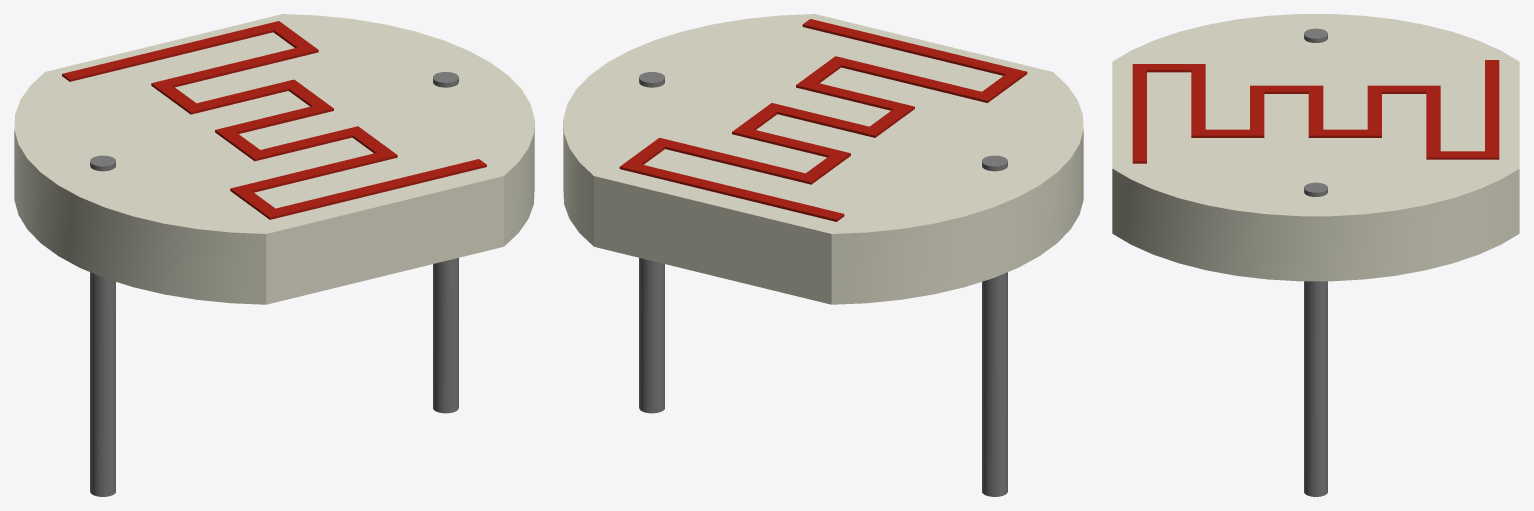
File: kc-r_ldr_10x8.5mm_p7.6mm_vertical.glb
3 views of the same model, side by side, from view 1: azimuth 30°, elevation 25°; view 2: azimuth 150°, elevation 25°; view 3: azimuth 270°, elevation 25° (orthographic). The views are drawn at different scales.
Parts seen in each view (by area): view 1: 0.75_0.75_0.6666666666666666_0, 0.4166666666666667_0_0_0, 0.25_0.25_0.25_0; view 2: 0.75_0.75_0.6666666666666666_0, 0.4166666666666667_0_0_0, 0.25_0.25_0.25_0; view 3: 0.75_0.75_0.6666666666666666_0, 0.4166666666666667_0_0_0, 0.25_0.25_0.25_0.
Part boxes in pixels (box(x1,y1,x2,y2)): 0.75_0.75_0.6666666666666666_0: box(14, 14, 534, 304); 0.4166666666666667_0_0_0: box(62, 21, 486, 219); 0.25_0.25_0.25_0: box(90, 72, 458, 496); 0.75_0.75_0.6666666666666666_0: box(563, 14, 1083, 304); 0.4166666666666667_0_0_0: box(619, 19, 1027, 221); 0.25_0.25_0.25_0: box(639, 72, 1007, 496); 0.75_0.75_0.6666666666666666_0: box(1112, 14, 1519, 281); 0.4166666666666667_0_0_0: box(1132, 60, 1499, 163); 0.25_0.25_0.25_0: box(1304, 28, 1327, 496).
Bounding box in the file's own units: 0.9977 × 0.7 × 0.85.
